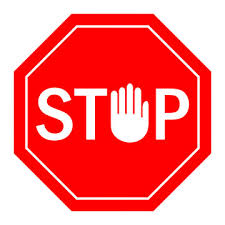stop sign: (14, 13, 211, 212)
